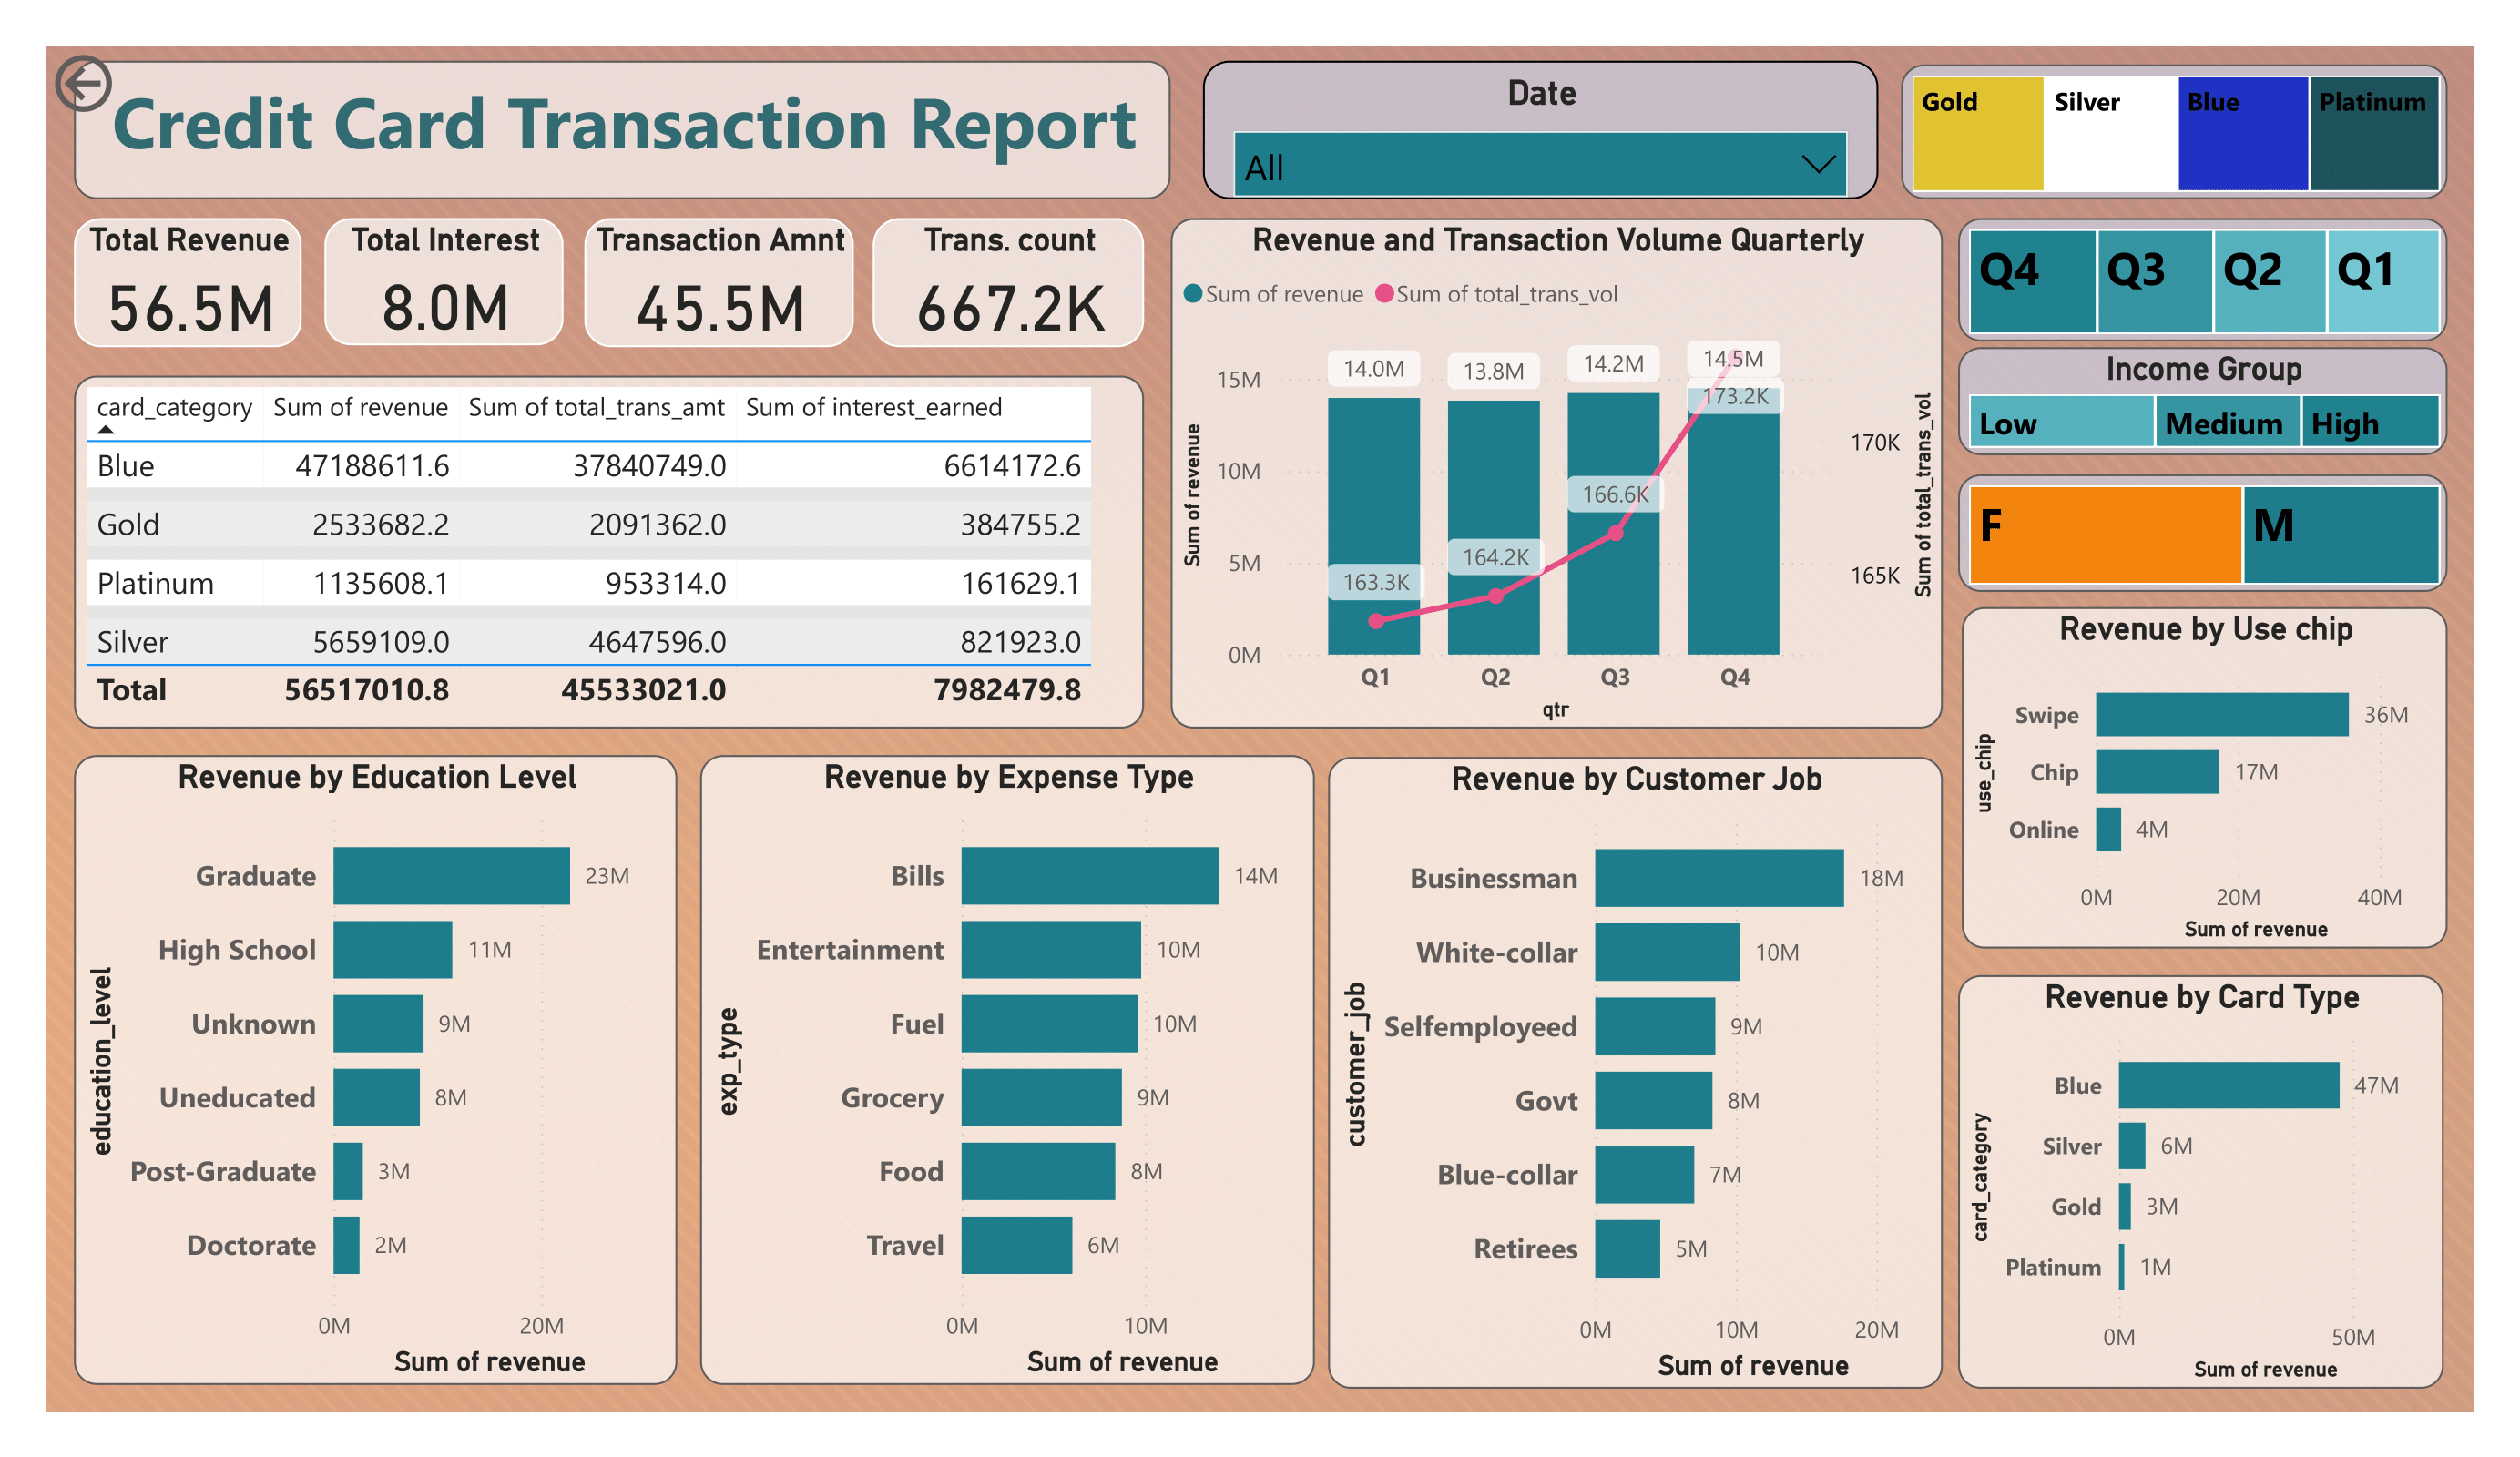

This screenshot's page, from the dashboard's own definition file:
{"tool":"powerbi","page":{"name":"CC_transaction","canvas":[1280,720],"ordinal":1},"visuals":[{"type":"textbox","box":[15,7.5,577.5,73.8],"z":0},{"type":"lineStackedColumnComboChart","title":"Revenue and Transaction Volume Quarterly","fields":{"Category":["public cc_detail.qtr"],"Y":["Sum(public cc_detail.revenue)"],"Y2":["Sum(public cc_detail.total_trans_vol)"]},"box":[592.5,91.2,407.5,268.8],"z":1000},{"type":"barChart","title":"Revenue by Expense Type","fields":{"Category":["public cc_detail.exp_type"],"Y":["Sum(public cc_detail.revenue)"]},"box":[345,373.8,323.8,332.5],"z":2000},{"type":"barChart","title":"Revenue by Education Level","fields":{"Y":["Sum(public cc_detail.revenue)"],"Category":["public cust_detail.education_level"]},"box":[15,373.8,317.5,332.5],"z":3000},{"type":"barChart","title":"Revenue by Customer Job","fields":{"Category":["public cust_detail.customer_job"],"Y":["Sum(public cc_detail.revenue)"]},"box":[676.2,375,323.8,332.5],"z":4000},{"type":"barChart","title":"Revenue by Card Type","fields":{"Y":["Sum(public cc_detail.revenue)"],"Category":["public cc_detail.card_category"]},"box":[1007.5,490,256.2,217.5],"z":5000},{"type":"barChart","title":"Revenue by Use chip","fields":{"Y":["Sum(public cc_detail.revenue)"],"Category":["public cc_detail.use_chip"]},"box":[1010,296.2,256.2,180],"z":6000},{"type":"tableEx","fields":{"Values":["public cc_detail.card_category","Sum(public cc_detail.revenue)","Sum(public cc_detail.total_trans_amt)","Sum(public cc_detail.interest_earned)"]},"box":[15,173.8,563.8,186.2],"z":7000},{"type":"card","title":"Total Revenue","fields":{"Values":["Sum(public cc_detail.revenue)"]},"box":[15,91.2,120,67.5],"z":8000},{"type":"card","title":"Transaction Amnt","fields":{"Values":["Sum(public cc_detail.total_trans_amt)"]},"box":[283.8,91.2,142.5,67.5],"z":9000},{"type":"card","title":"Total Interest","fields":{"Values":["Sum(public cc_detail.interest_earned)"]},"box":[147,90.8,126.2,67.5],"z":10000},{"type":"card","title":"Trans. count","fields":{"Values":["Sum(public cc_detail.total_trans_vol)"]},"box":[436.2,91.2,142.5,67.5],"z":11000},{"type":"actionButton","box":[0,0,100,40],"z":12000},{"type":"slicer","title":"Date","fields":{"Values":["public cc_detail.week_start_date"]},"box":[610,7.5,356.2,73.8],"z":13000},{"type":"treemap","fields":{"Group":["public cc_detail.card_category"],"Values":["Avg(public cc_detail.client_num)"]},"box":[977.5,10,288.8,71.2],"z":14000},{"type":"treemap","fields":{"Group":["public cust_detail.gender"],"Values":["CountNonNull(public cc_detail.client_num)"]},"box":[1007.5,226.2,258.8,61.2],"z":15000},{"type":"treemap","title":"Income Group","fields":{"Group":["public cust_detail.income_group"],"Values":["CountNonNull(public cc_detail.client_num)"]},"box":[1007.5,158.8,258.8,57.5],"z":16000},{"type":"treemap","fields":{"Group":["public cc_detail.qtr"],"Values":["Avg(public cc_detail.client_num)"]},"box":[1007.5,91.2,258.8,65],"z":17000}]}

Visuals, with their boxes in screenshot pixels (x1, y1, x2, y2):
textbox: <region>42, 47, 1164, 190</region>
"Revenue and Transaction Volume Quarterly" lineStackedColumnComboChart: <region>1164, 209, 1954, 731</region>
"Revenue by Expense Type" barChart: <region>683, 759, 1311, 1404</region>
"Revenue by Education Level" barChart: <region>42, 759, 658, 1404</region>
"Revenue by Customer Job" barChart: <region>1326, 760, 1954, 1406</region>
"Revenue by Card Type" barChart: <region>1969, 984, 2466, 1406</region>
"Revenue by Use chip" barChart: <region>1974, 607, 2472, 957</region>
tableEx - public cc_detail.card_category x Sum(public cc_detail.revenue): <region>42, 371, 1137, 731</region>
"Total Revenue" card: <region>42, 209, 275, 341</region>
"Transaction Amnt" card: <region>564, 209, 841, 341</region>
"Total Interest" card: <region>299, 209, 544, 340</region>
"Trans. count" card: <region>860, 209, 1137, 341</region>
actionButton: <region>13, 33, 208, 110</region>
"Date" slicer: <region>1198, 47, 1889, 190</region>
treemap - public cc_detail.card_category x Avg(public cc_detail.client_num): <region>1911, 52, 2472, 190</region>
treemap - public cust_detail.gender x CountNonNull(public cc_detail.client_num): <region>1969, 472, 2472, 591</region>
"Income Group" treemap: <region>1969, 341, 2472, 453</region>
treemap - public cc_detail.qtr x Avg(public cc_detail.client_num): <region>1969, 209, 2472, 336</region>
